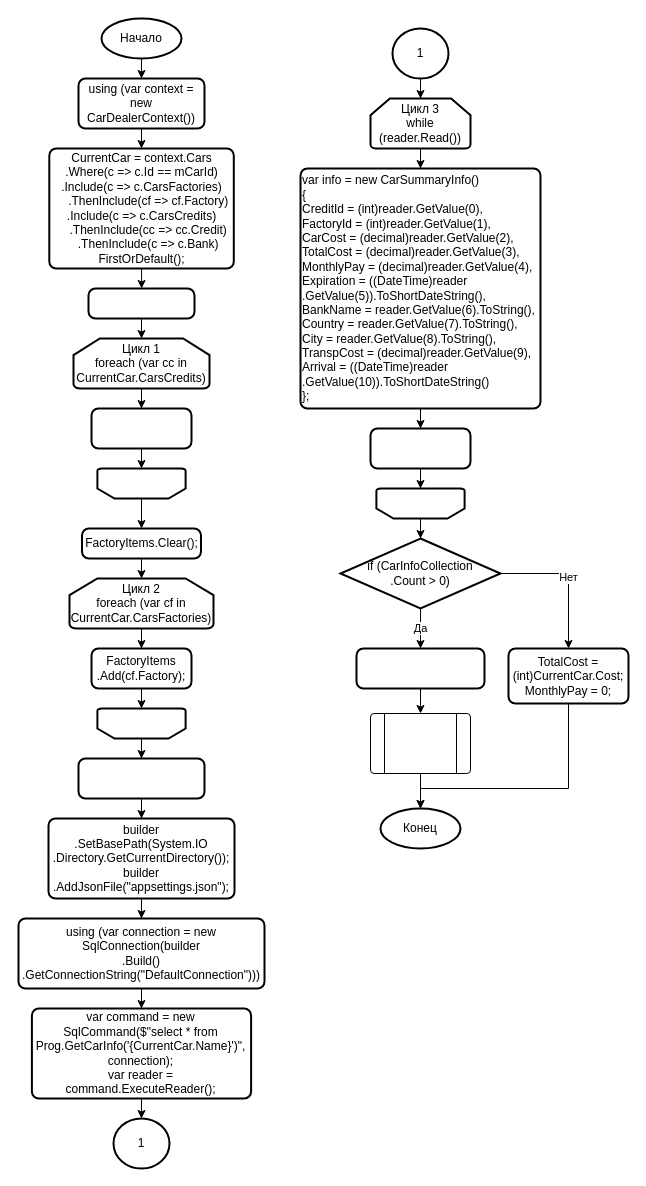
Some shapes in this 646 by 1186 pixel diagram are drawn without their labels. The box of each missing label's shape, as (x1, y1, x2, y2) in pixels:
CarInfoCollection .Add(info);: (369, 427, 471, 469)
CreditItems .Add(cc.Credit);: (90, 407, 192, 449)
CreditItems.Clear();: (87, 287, 195, 319)
mSelectedCredit = 0; mSelectedFactory = 0;: (355, 647, 485, 689)
SetInfo();: (370, 712, 470, 774)
var builder = new ConfigurationBuilder();: (77, 757, 205, 799)
Цикл 1: (96, 467, 186, 499)
Цикл 2: (96, 707, 186, 739)
Цикл 3: (375, 487, 465, 519)
